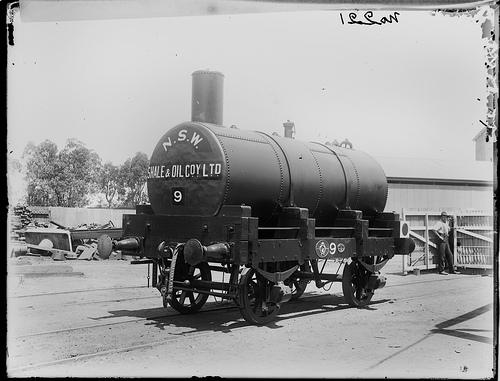Train: (95, 71, 418, 327)
